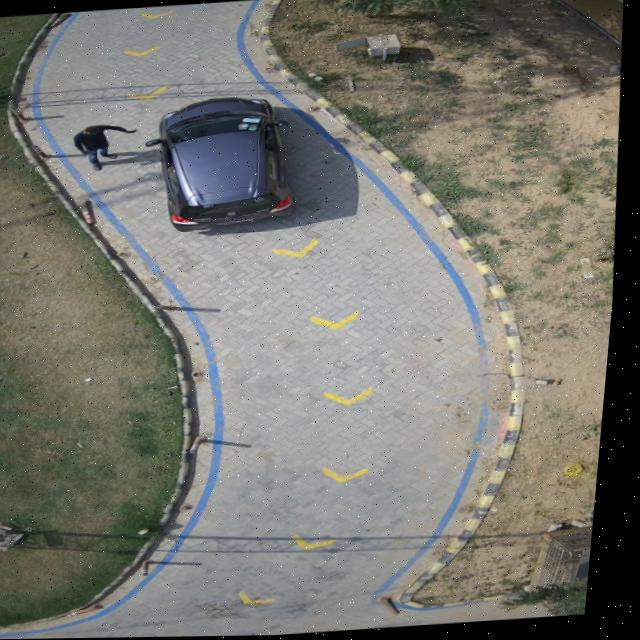car: (149, 97, 297, 231)
